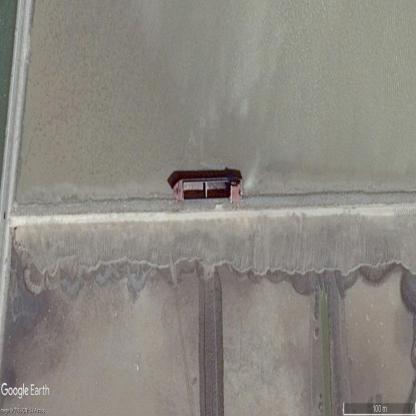ship: (172, 179, 242, 204)
